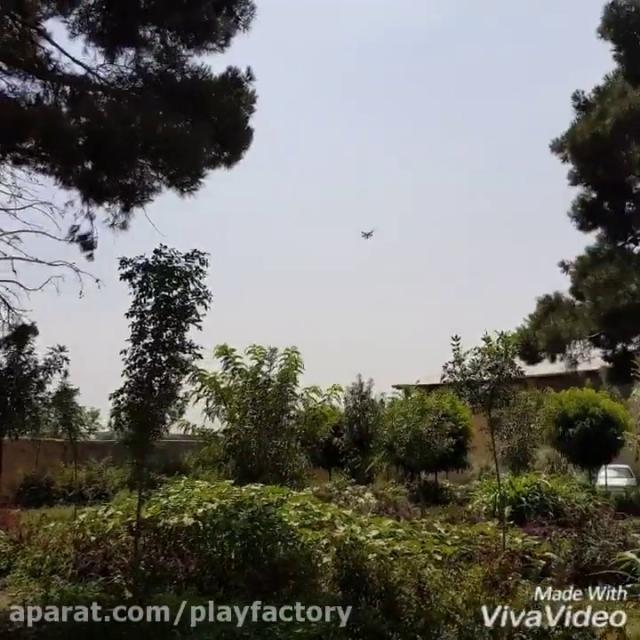drone: (356, 222, 382, 244)
